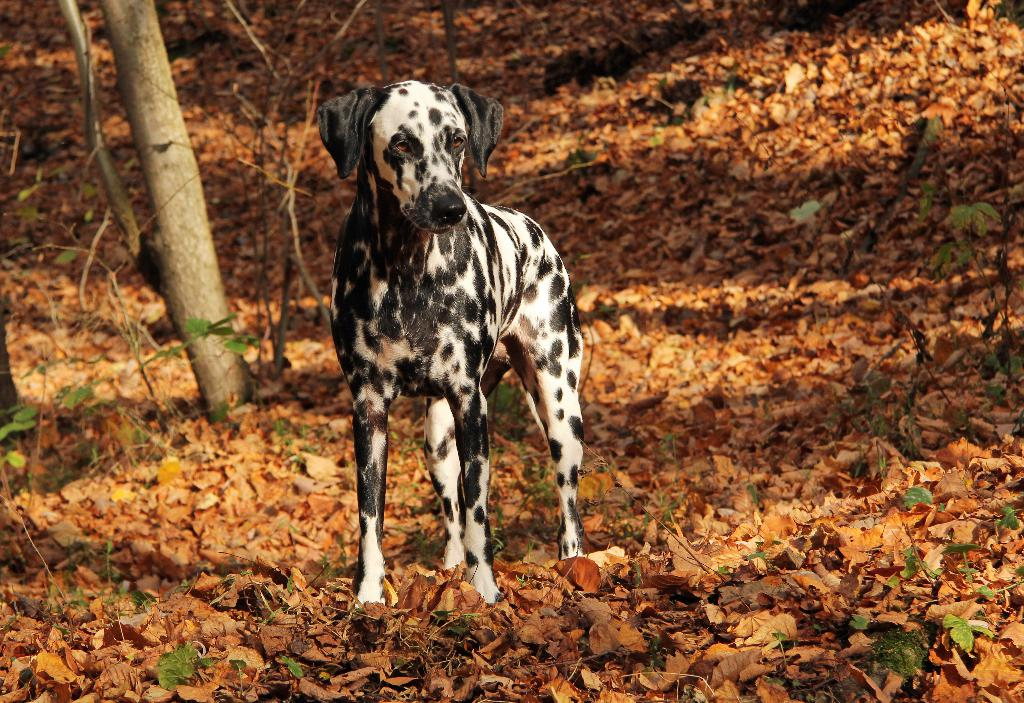Tree: (98, 2, 252, 411)
